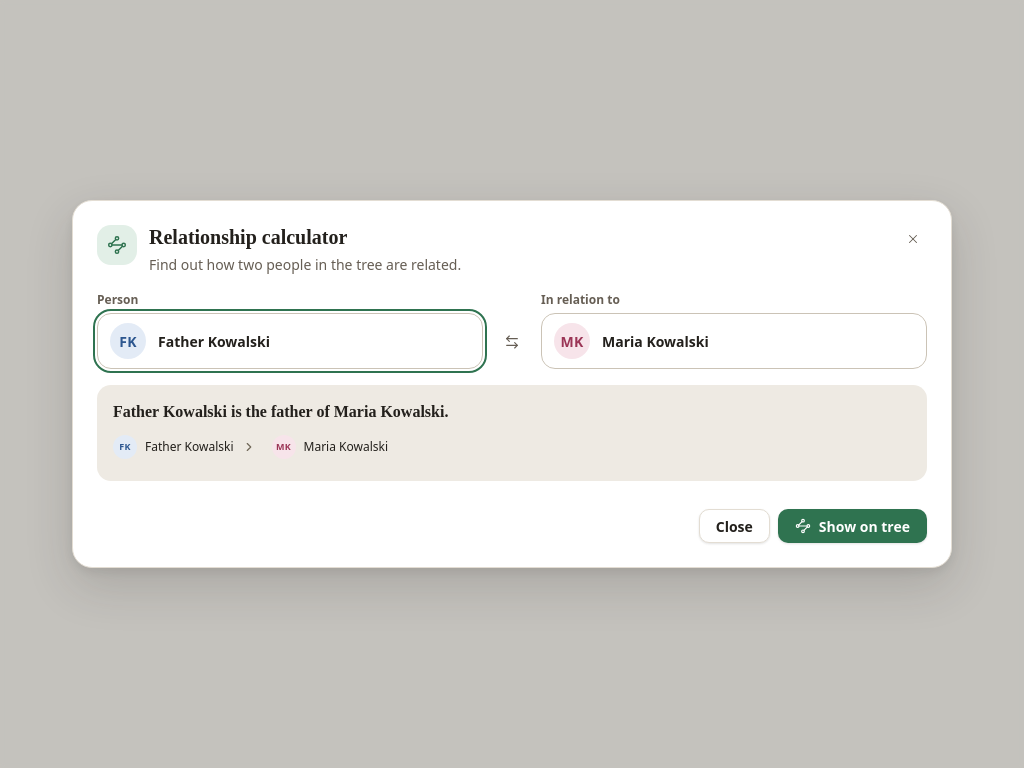
Scenario: RelationshipDialog › swaps the two people
The image size is (1024, 768).
expect the message reads "Father Kowalski is the father of Maria Kowalski.": met, box [113,403,448,420]
Click the button named "Swap people": (512, 342) [495,325,529,359]
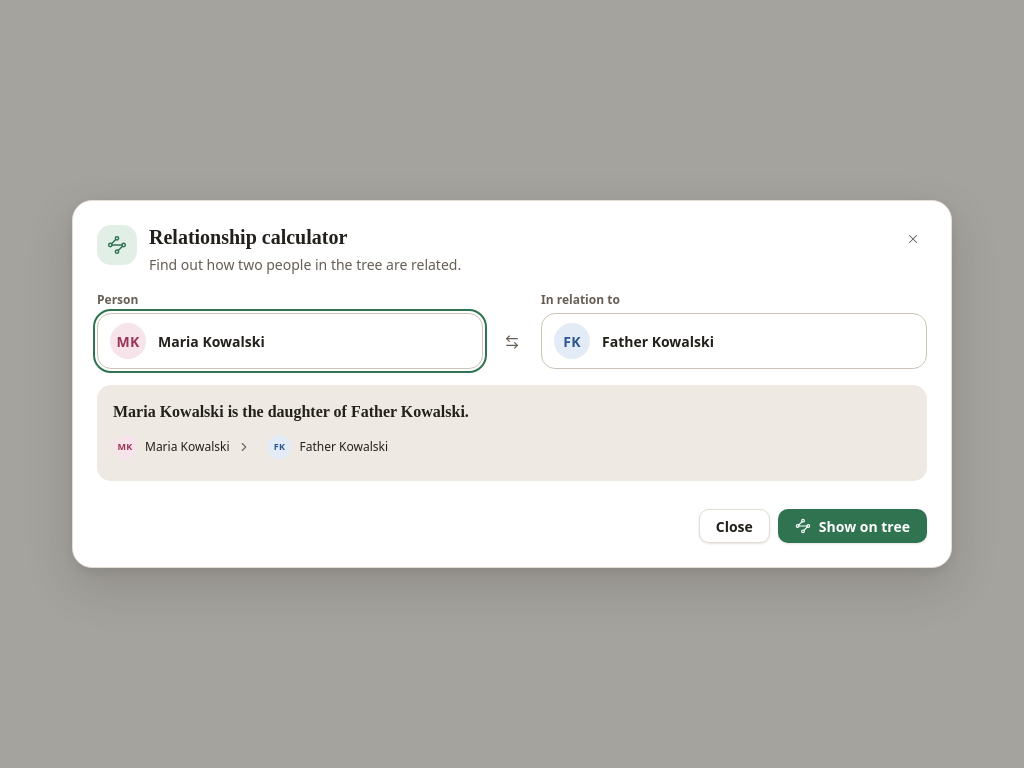
expect the message reads "Maria Kowalski is the daughter of Father Kowalski.": met, box [113,403,469,420]
